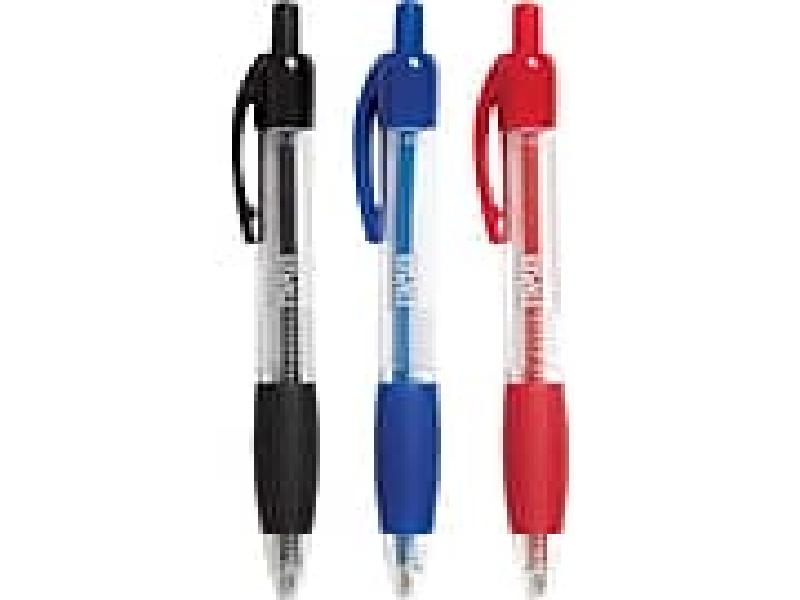pen: (467, 1, 582, 600), (223, 2, 335, 599), (349, 1, 451, 600)
